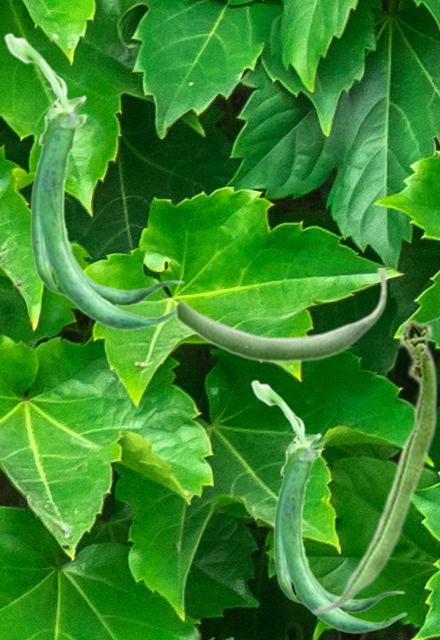french_bean: (3, 32, 185, 330), (250, 379, 406, 633), (310, 317, 437, 615), (174, 268, 387, 363)
